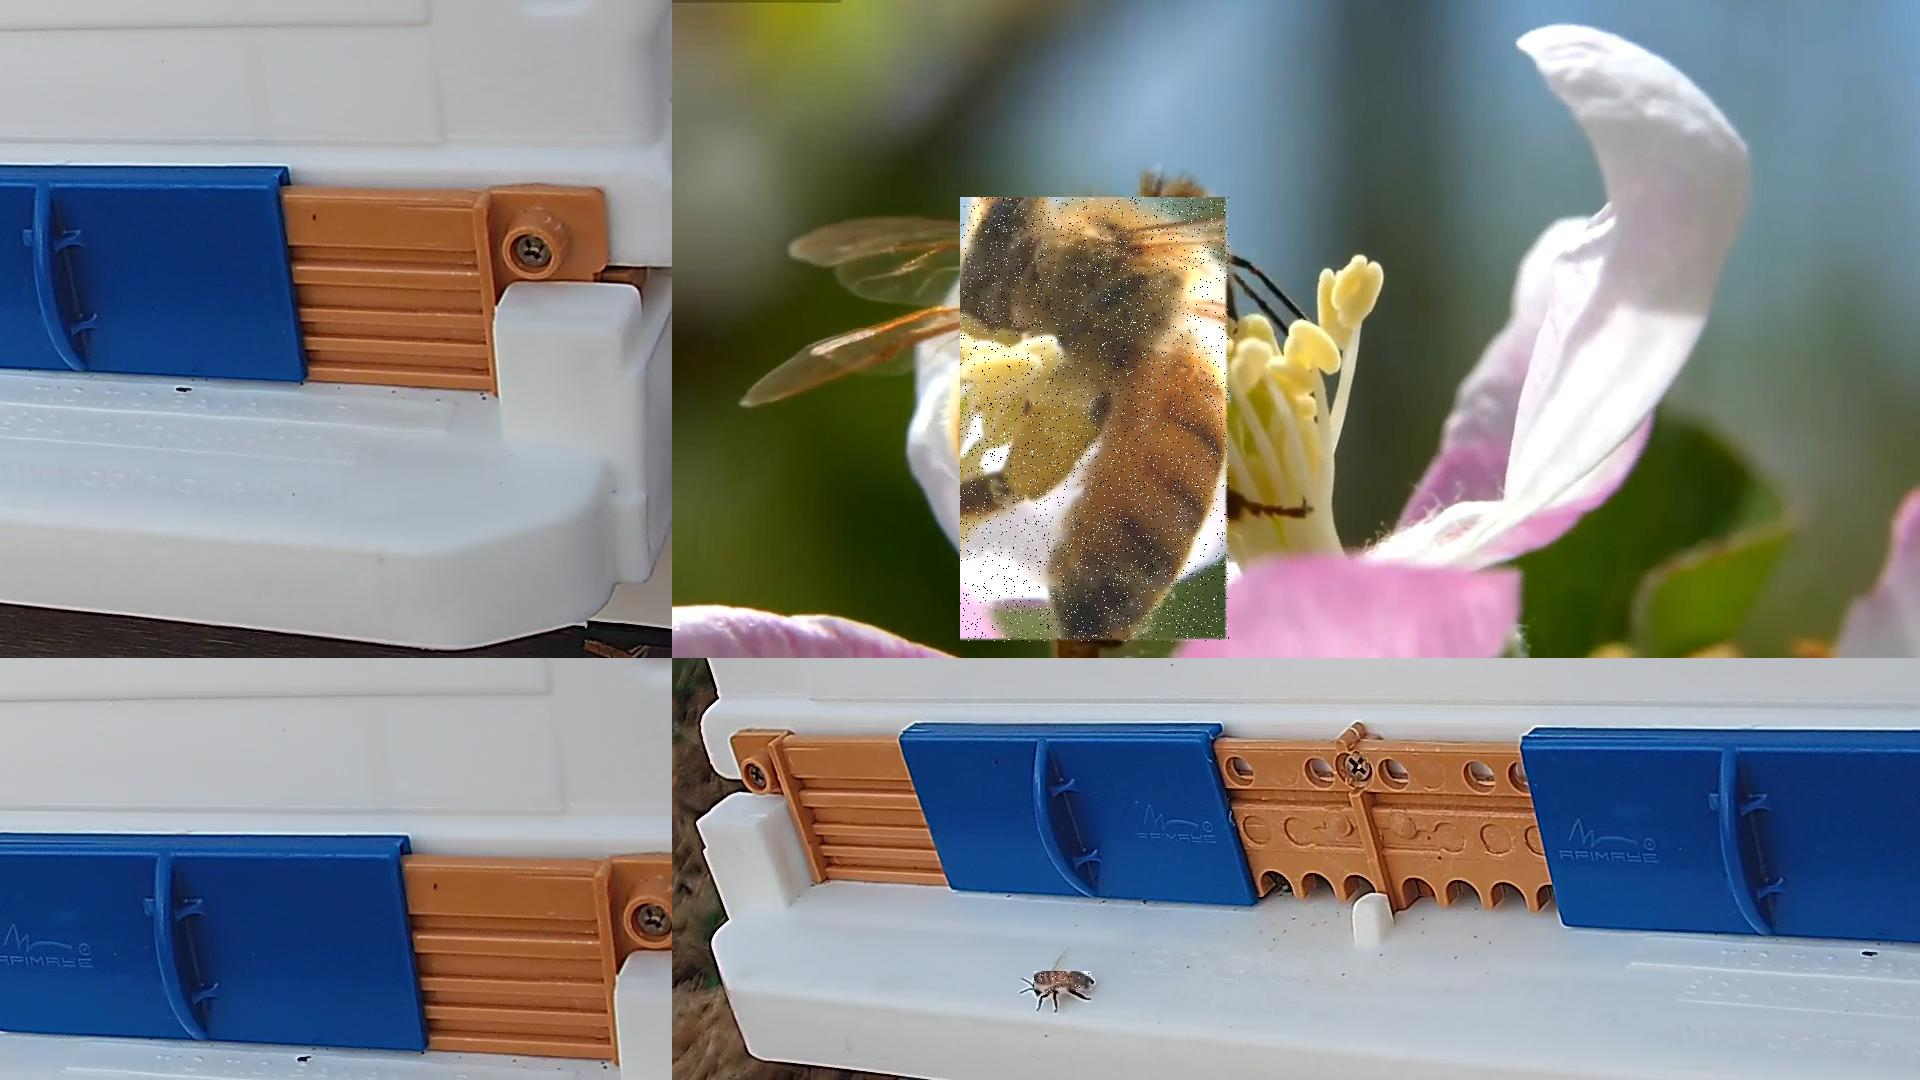bee: (961, 198, 1230, 644), (1035, 972, 1095, 994)
